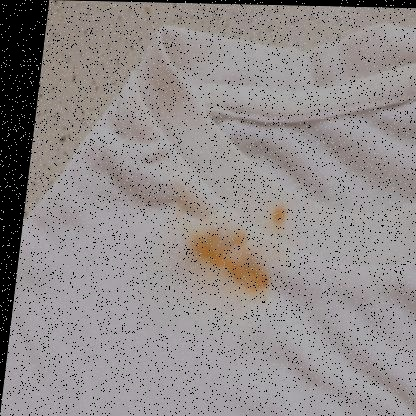kimchi: (189, 224, 271, 288), (257, 202, 289, 232)
